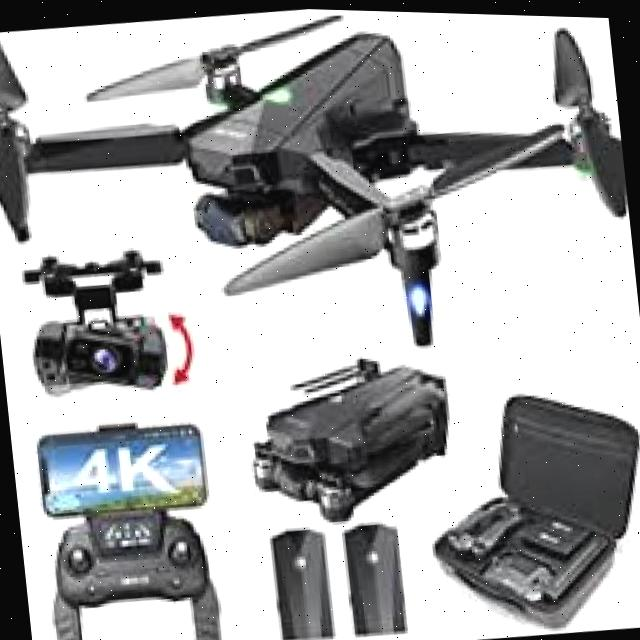drone: (0, 0, 640, 404)
